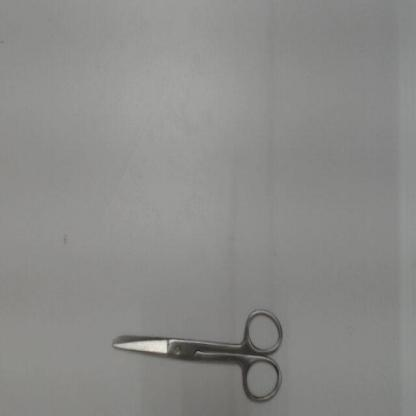Dressing Scissors: (103, 300, 293, 411)
